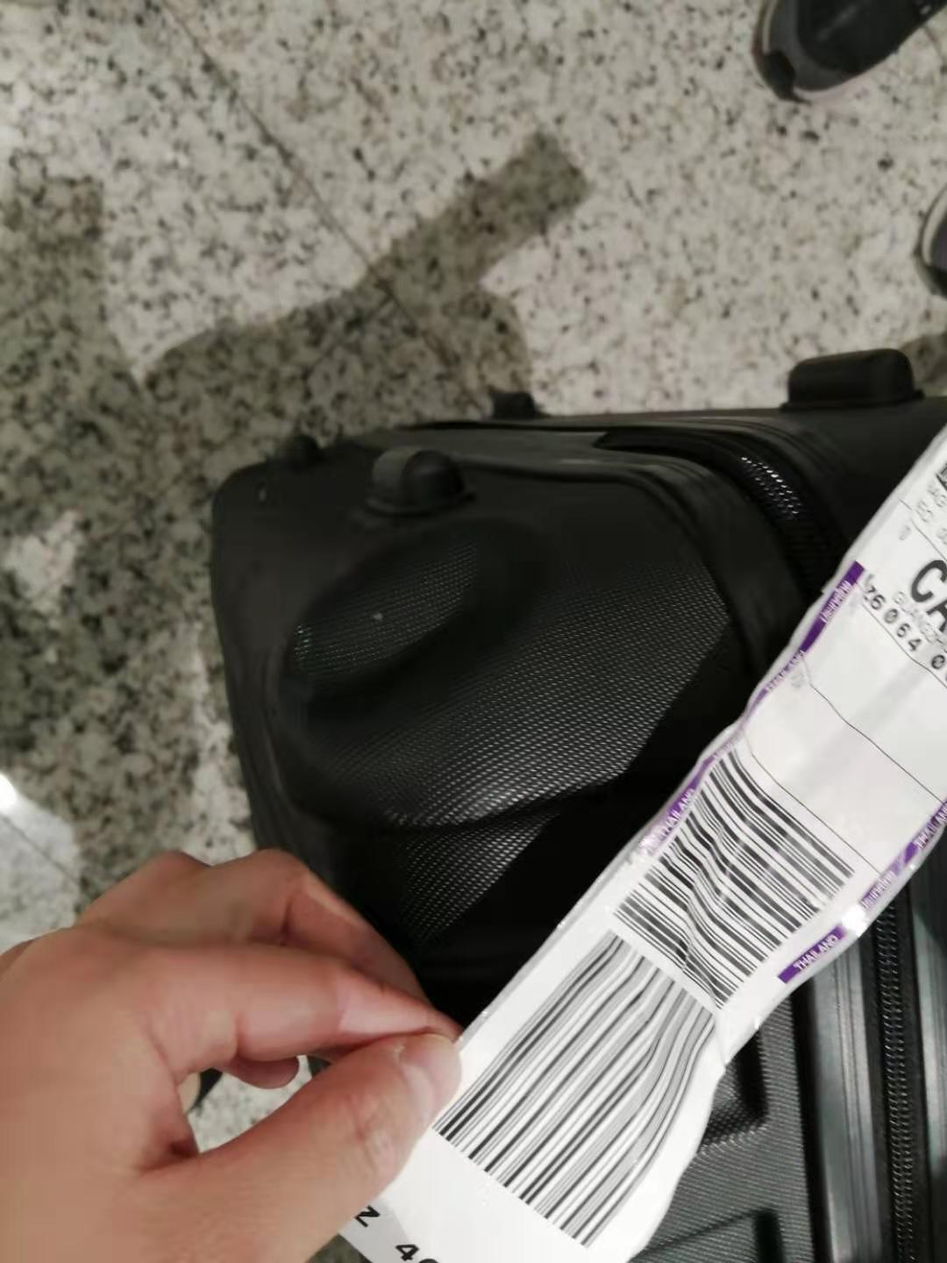hollow: (274, 517, 553, 746)
